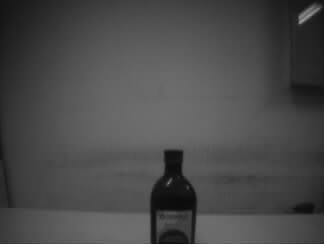Bottle: (149, 149, 197, 244)
